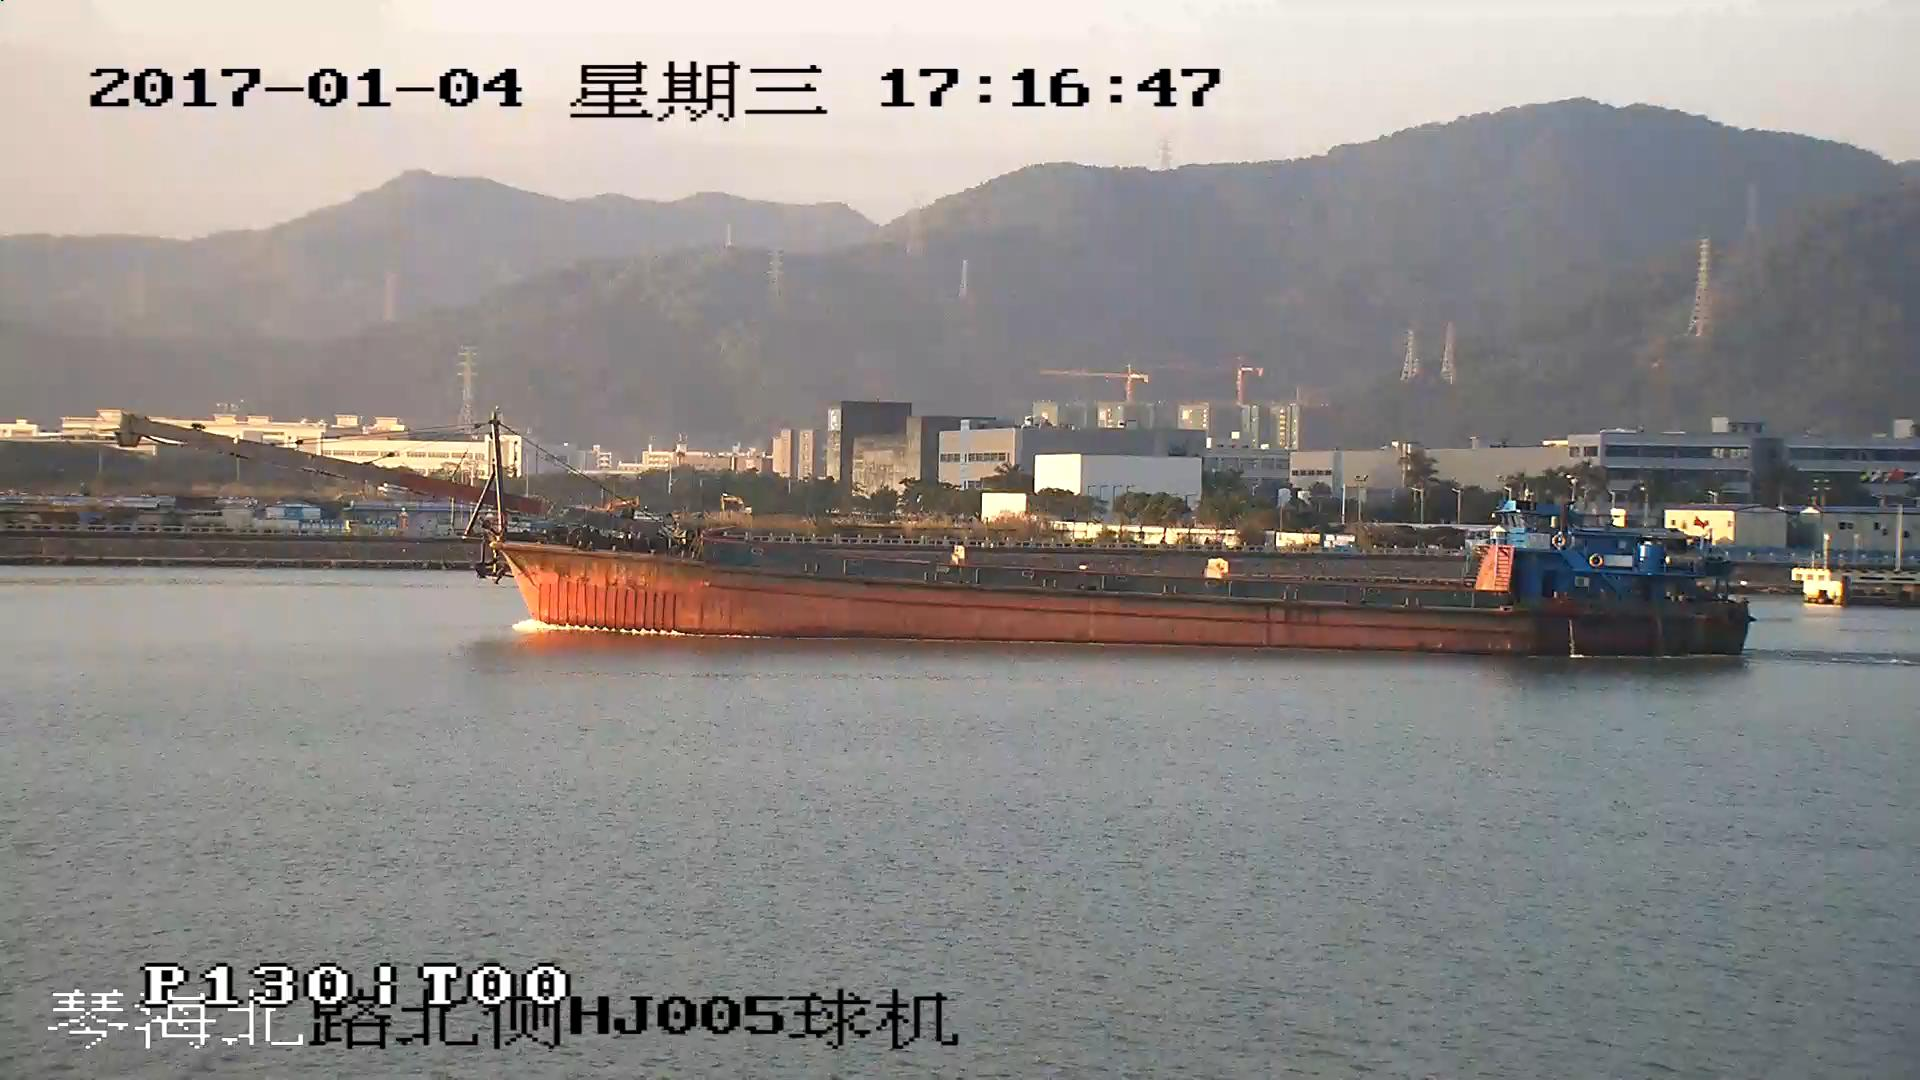bulk cargo carrier: (122, 413, 1754, 660)
